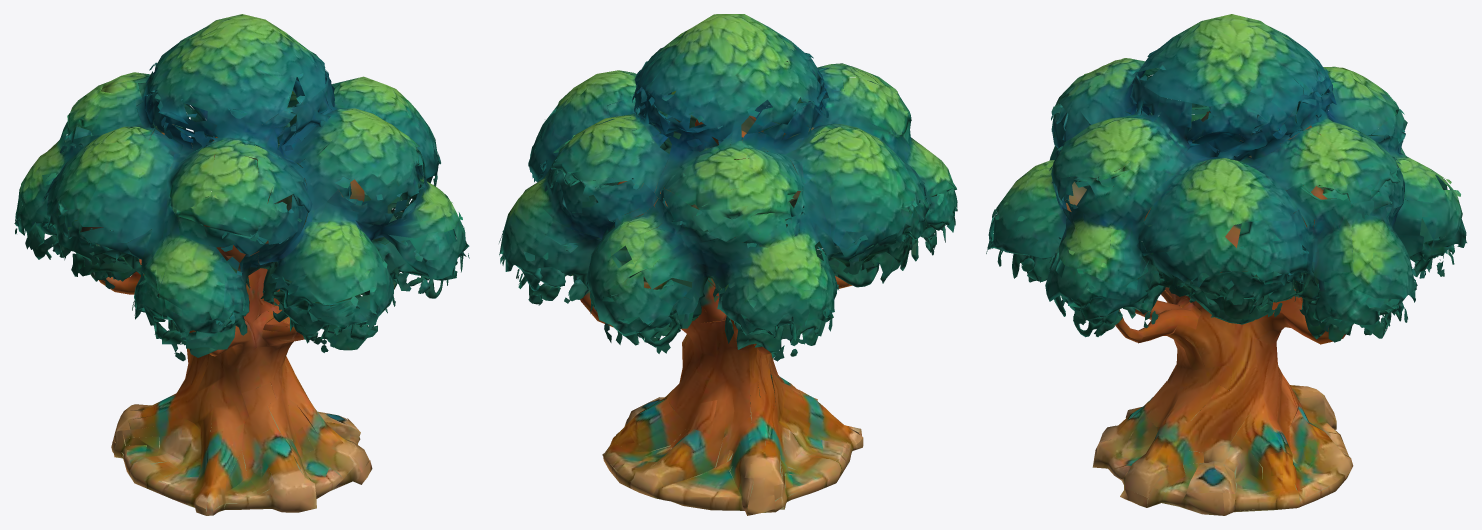
Rendered from 07-garden-emerald-canopy-tree.glb.
3 views of the same model, side by side, from view 1: azimuth 30°, elevation 25°; view 2: azimuth 150°, elevation 25°; view 3: azimuth 270°, elevation 25° (orthographic).
Visible parts, largest first — view 1: tripo_node_bf8956ab; view 2: tripo_node_bf8956ab; view 3: tripo_node_bf8956ab.
Boxes of the visible parts, x1,y1,x2,y2 form: tripo_node_bf8956ab: (14,14,469,515); tripo_node_bf8956ab: (499,14,957,515); tripo_node_bf8956ab: (986,14,1466,515).
Size of the model in its own units: 1.07 by 1.2 by 1.17.
1 material, 1 textured.
